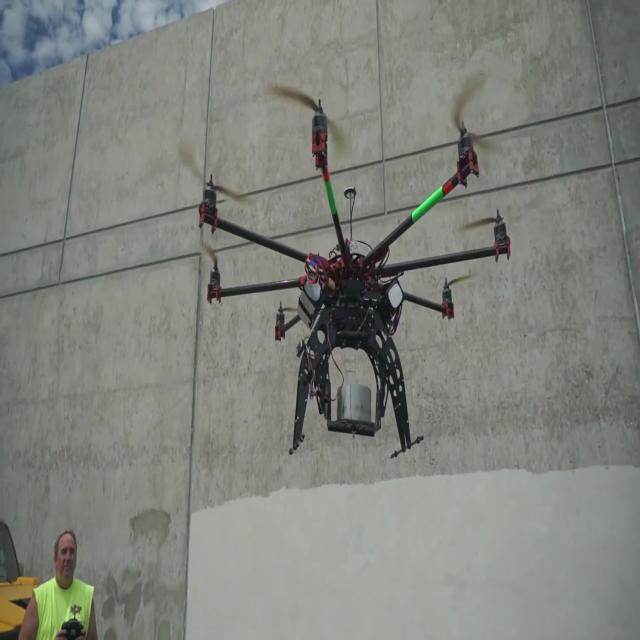drone: (183, 87, 525, 458)
